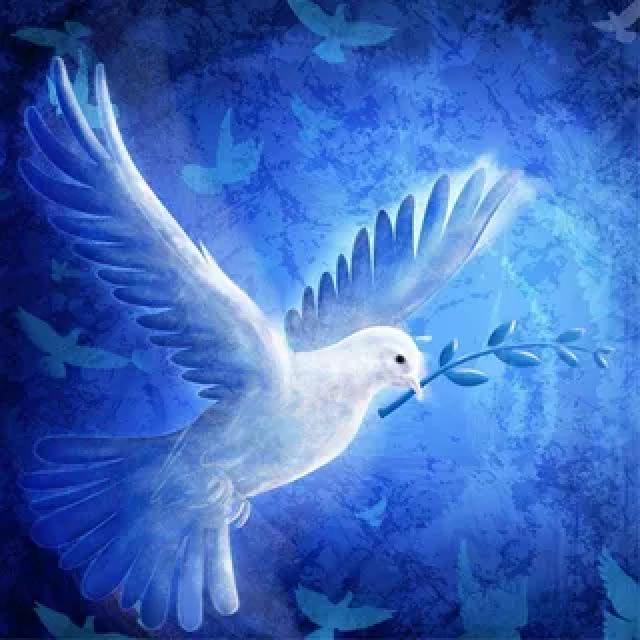pigeon: (9, 50, 522, 630)
